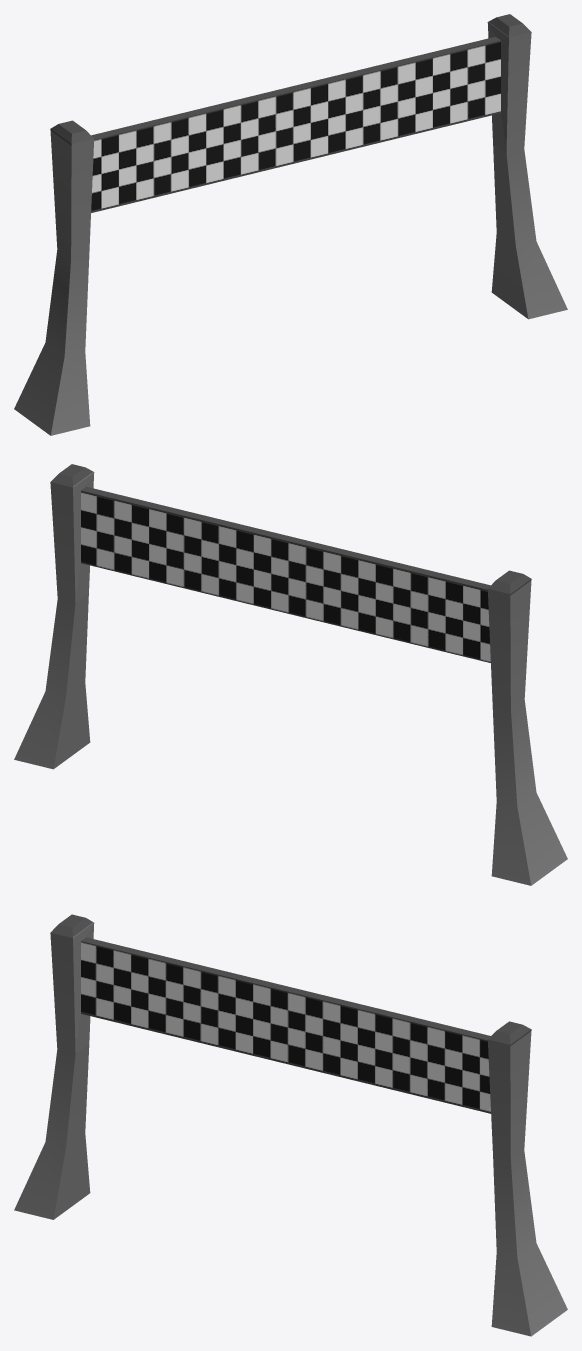
The model's file is finish.obj.
The picture shows the model from 3 angles, top to bottom: view 1: azimuth 30°, elevation 25°; view 2: azimuth 150°, elevation 25°; view 3: azimuth 330°, elevation 25°; orthographic projection.
Parts seen in each view (by area): view 1: pCube32_lambert1_0; view 2: pCube32_lambert1_0; view 3: pCube32_lambert1_0.
Part boxes in pixels (<box>): pCube32_lambert1_0: <box>14,14,567,435</box>; pCube32_lambert1_0: <box>14,464,567,885</box>; pCube32_lambert1_0: <box>14,914,567,1336</box>.
Bounding box in the file's own units: 4.71 × 2.49 × 0.58.
Materials: 1 (1 with a texture image).
